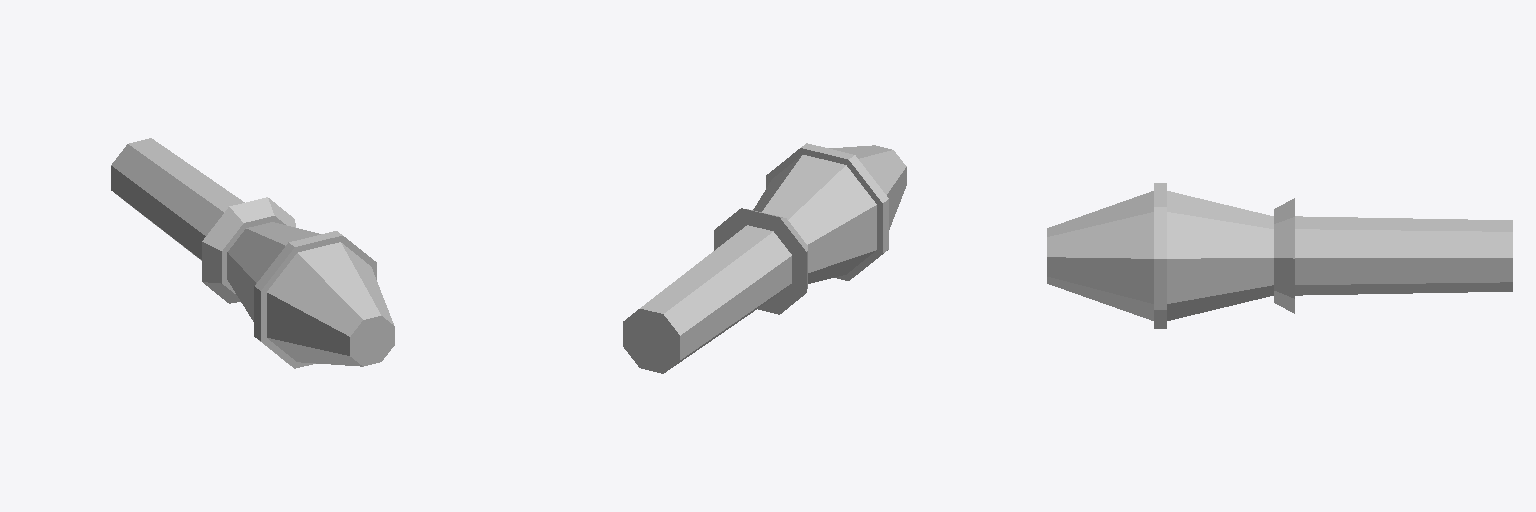
Rendered from Rocket.obj.
3 renders of one model, left to right at view 1: azimuth 30°, elevation 25°; view 2: azimuth 150°, elevation 25°; view 3: azimuth 270°, elevation 25°, orthographic.
Visible parts, largest first — view 1: Mesh1 Group1 Model; view 2: Mesh1 Group1 Model; view 3: Mesh1 Group1 Model.
Part boxes in pixels (x1,y1,x2,y2): Mesh1 Group1 Model: (111,138,394,368); Mesh1 Group1 Model: (623,143,906,373); Mesh1 Group1 Model: (1047,183,1512,328).
Size of the model in its own units: 0.0189 by 0.0189 by 0.0654.